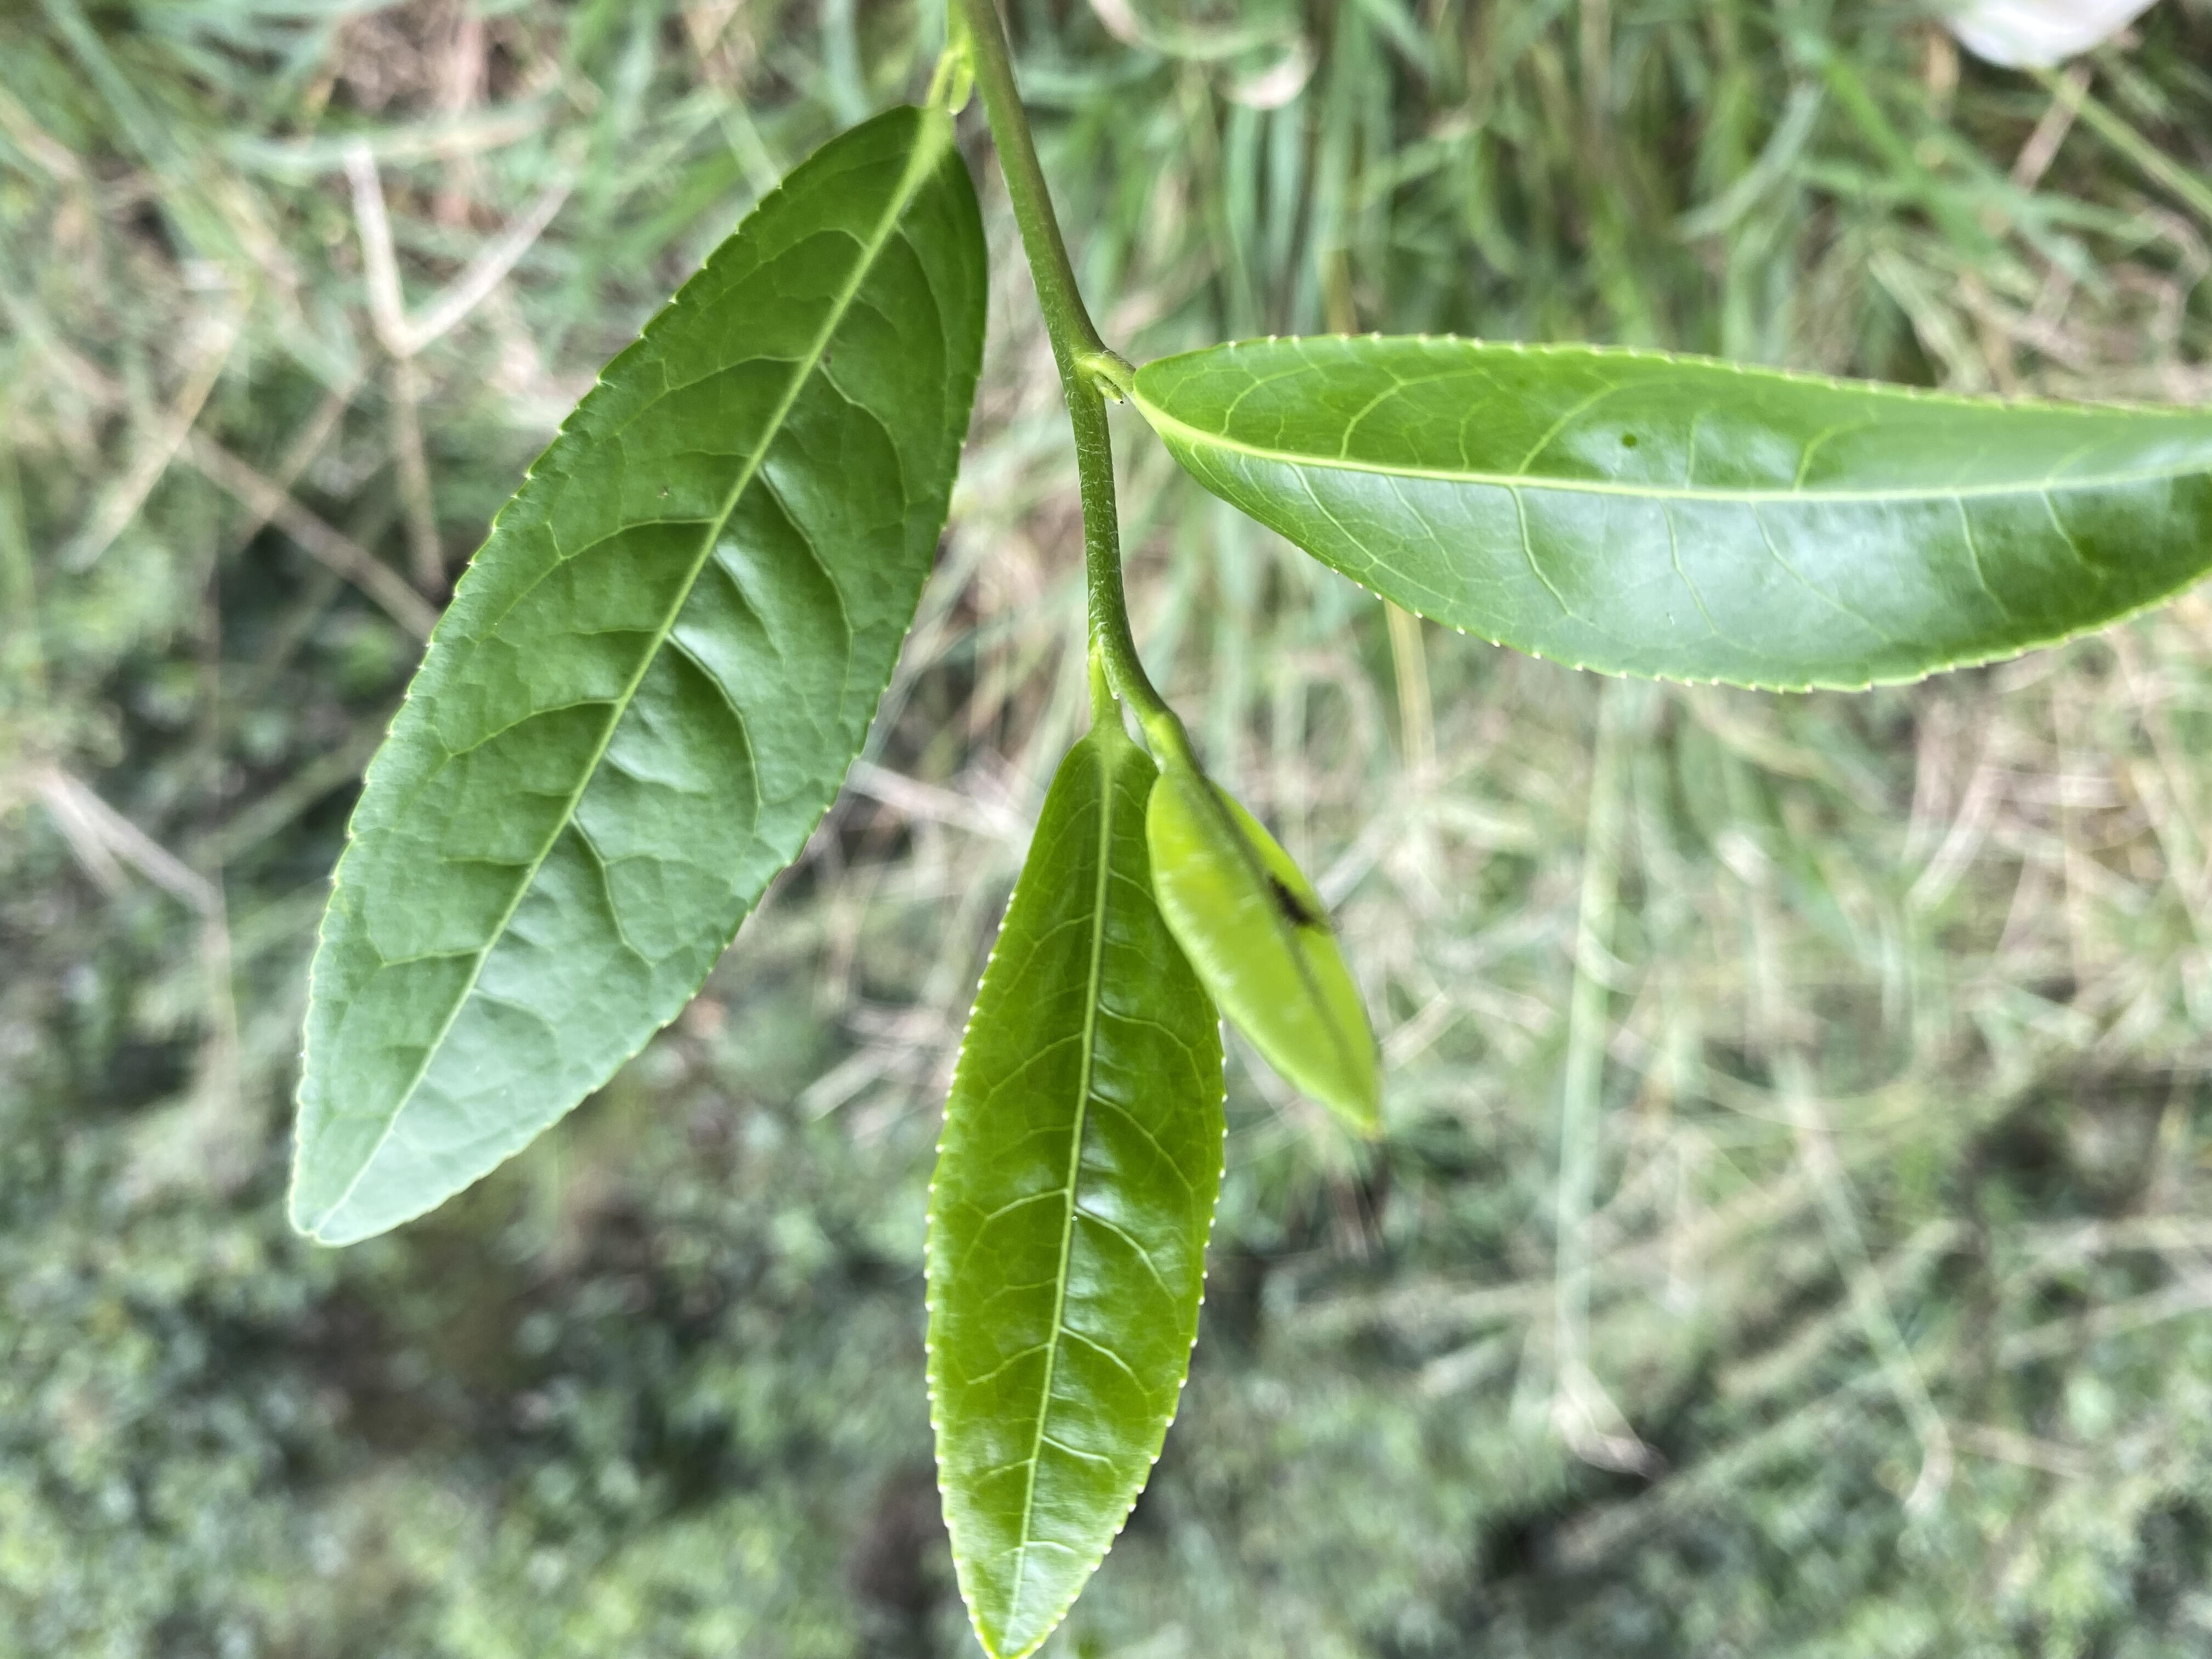healthy: (280, 115, 991, 1244), (1134, 329, 2209, 699), (921, 737, 1231, 1656)
